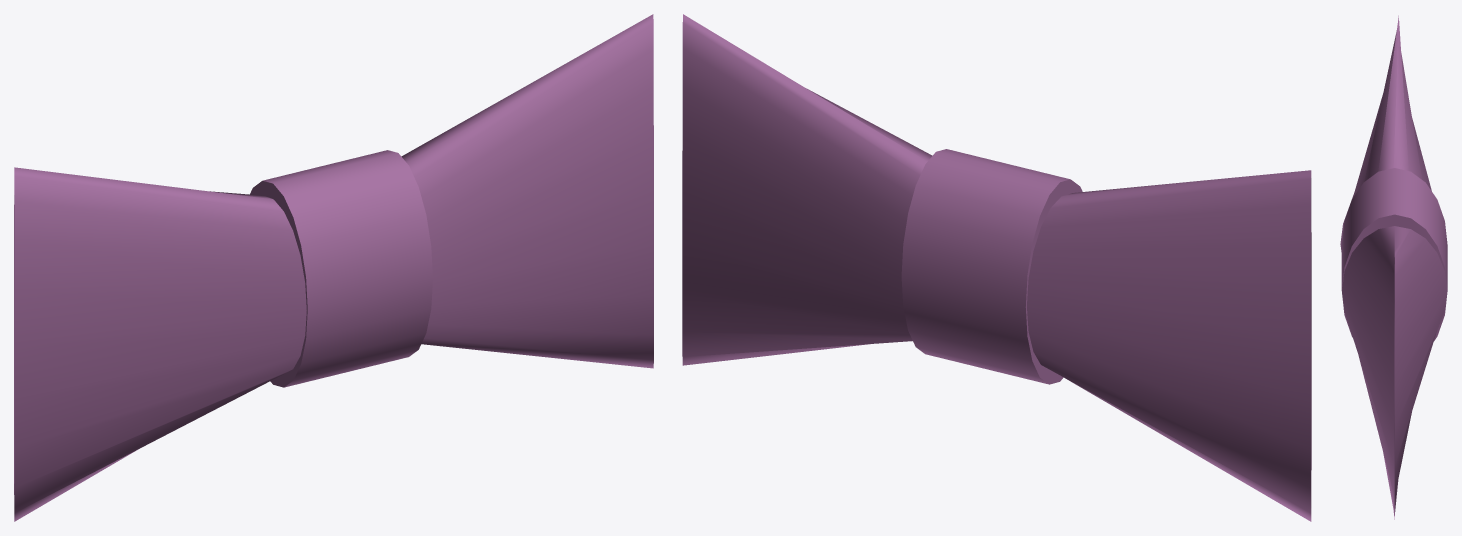
File: bow_for_Evan.fbx
The picture shows the model from 3 angles, left to right: view 1: azimuth 30°, elevation 25°; view 2: azimuth 150°, elevation 25°; view 3: azimuth 270°, elevation 25°; orthographic projection. The views are drawn at different scales.
Visible parts, largest first — view 1: pCylinder26; view 2: pCylinder26; view 3: pCylinder26.
Boxes of the visible parts, left/top/right/bottom form: pCylinder26: left=14, top=14, right=653, bottom=521; pCylinder26: left=682, top=14, right=1311, bottom=521; pCylinder26: left=1340, top=15, right=1447, bottom=519.
Bounding box in the file's own units: 2.93 × 1.56 × 0.5597.
